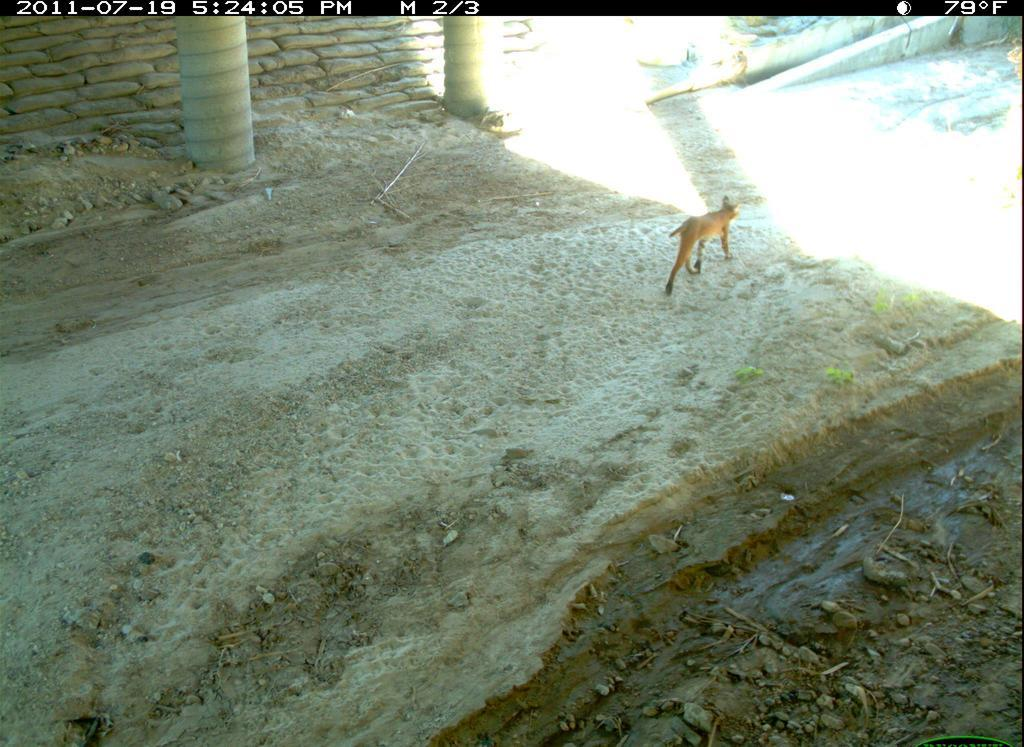bobcat: (662, 191, 769, 299)
